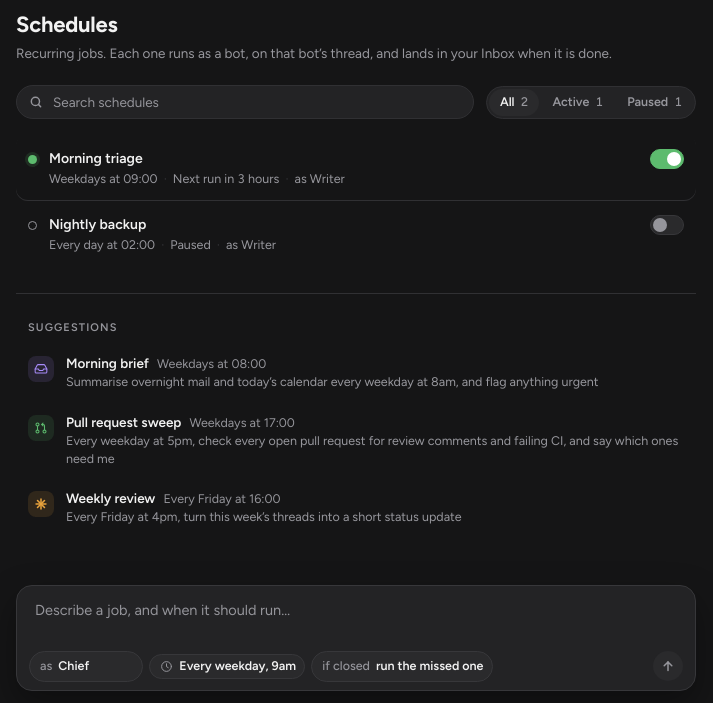
Scenario: finding one in a list of them › says how many there are when nothing matches
This screenshot has width=713, height=703.
Type "zzz" into the search field labelled "Search schedules" at [256, 102], box [51,94,461,112]
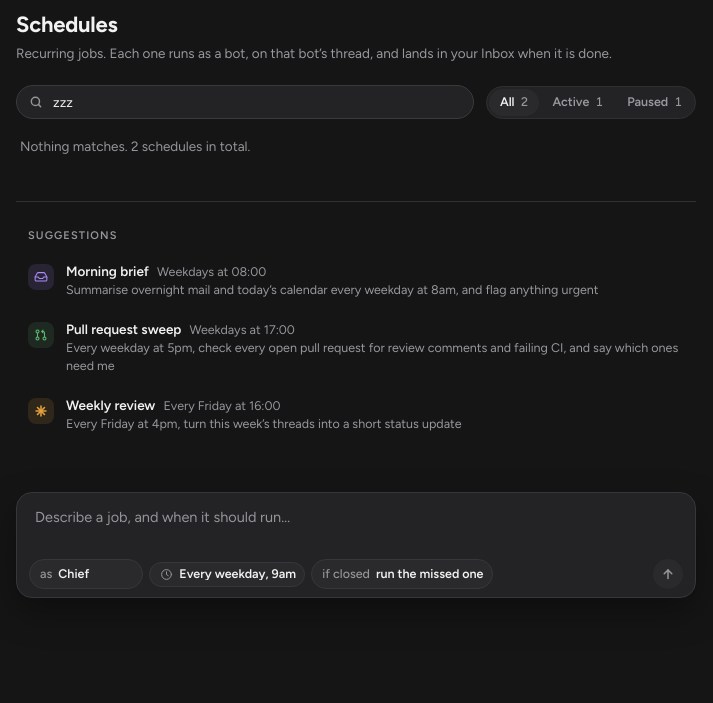
Result: the text "Nothing matches. 2 schedules in total." is shown at [20,138,250,154]
